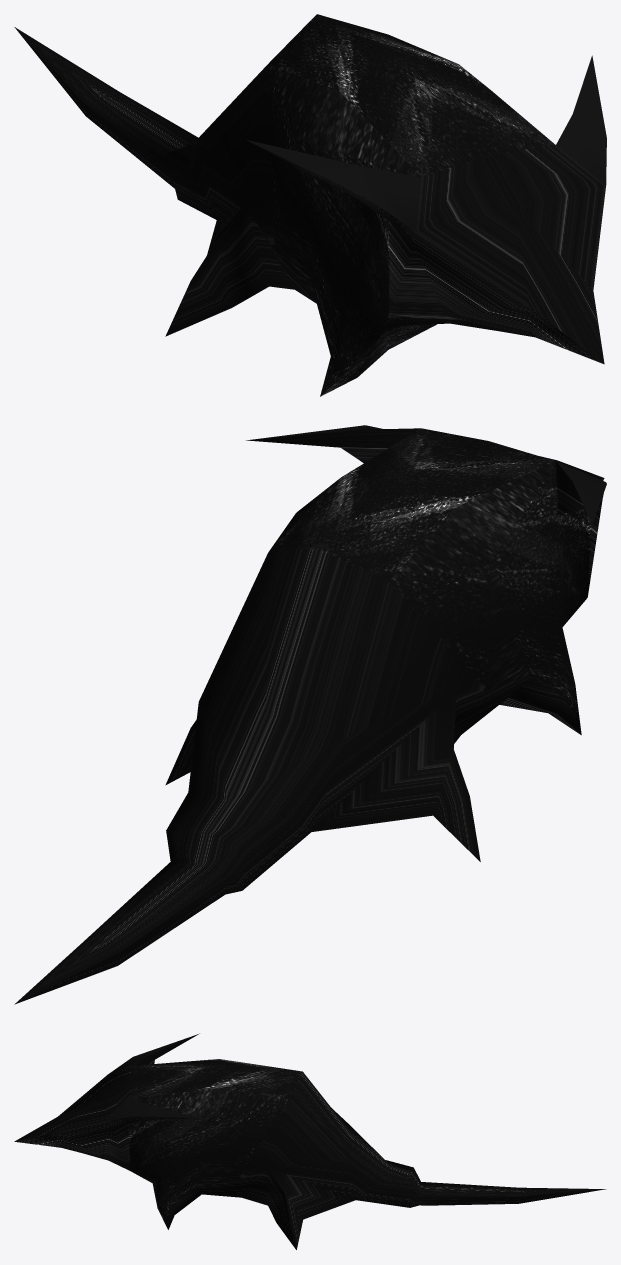
Rendered from MouseNEW.fbx.
3 views of the same model, one above another, from view 1: azimuth 30°, elevation 25°; view 2: azimuth 150°, elevation 25°; view 3: azimuth 270°, elevation 25° (orthographic). The views are drawn at different scales.
Visible parts, largest first — view 1: 쥐; view 2: 쥐; view 3: 쥐.
Boxes of the visible parts, x1,y1,x2,y2 form: 쥐: [14, 14, 606, 396]; 쥐: [14, 425, 606, 1004]; 쥐: [14, 1033, 606, 1249].
Bounding box in the file's own units: 10518 × 8508 × 31019.
Materials: 1 (1 with a texture image).
